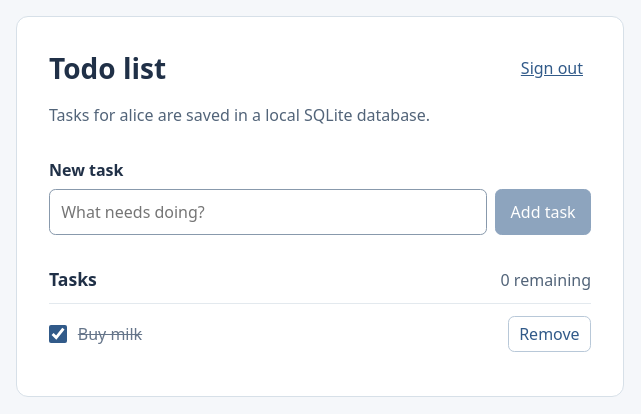
reopens a completed task and restores the remaining count
Expected: the text "0 remaining" is shown, [501,269,591,291]
Click the checkbox labelled "Buy milk".
click(58, 334)  # box [49,325,67,343]
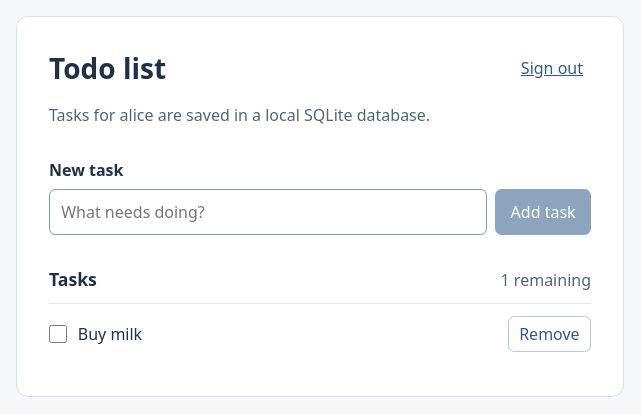
Expected: the checkbox labelled "Buy milk" is not checked, [49,325,67,343]
Expected: the text "1 remaining" is shown, [501,269,591,291]
